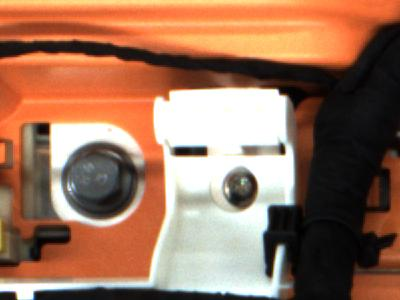nut_b: (58, 139, 143, 224)
